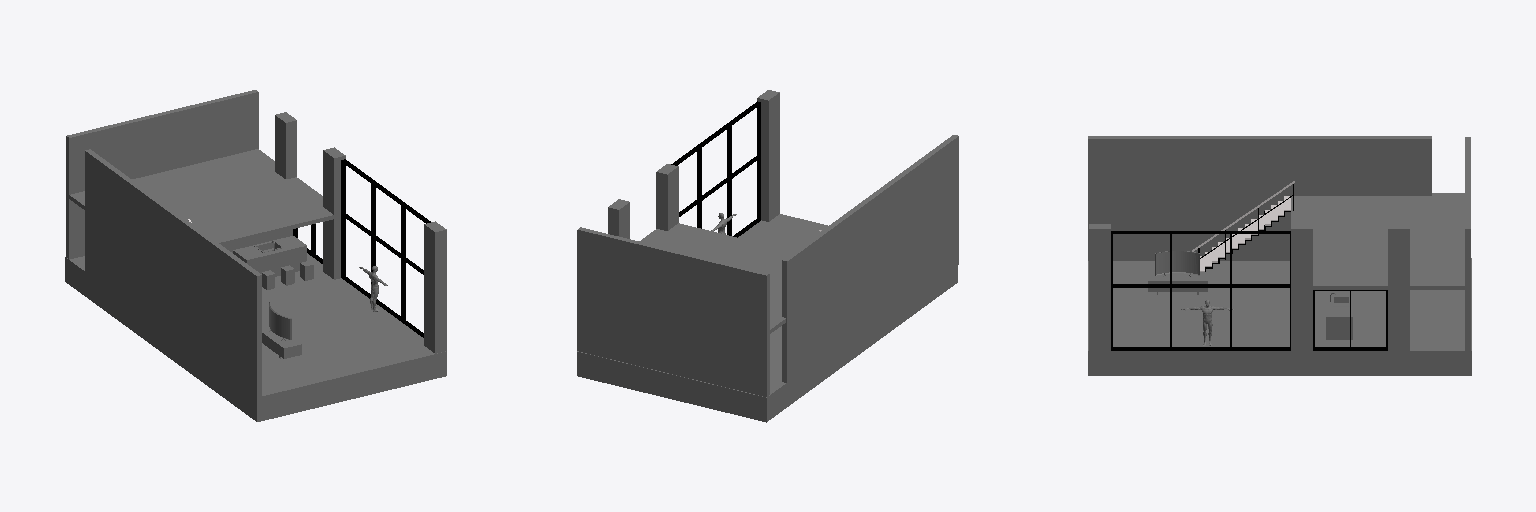
Rendered from PrimerAvance.obj.
3 views of the same model, side by side, from view 1: azimuth 30°, elevation 25°; view 2: azimuth 150°, elevation 25°; view 3: azimuth 270°, elevation 25° (orthographic).
Parts seen in each view (by area): view 1: pCube75, pCube48, pCube76, pCube49, pCube26, pCube27, pCube25, pCube19, pCube77, pCube64, pCube78; view 2: pCube76, pCube75, pCube48, pCube49, pCube26, pCube27, pCube25, pCube77; view 3: pCube75, pCube48, pCube49, pCube25, pCube26, pCube77, pCube27, pCube76, pCube19, pCube78, pCube33, pCube64.
Part boxes in pixels (x1,y1,x2,y2): pCube75: (85, 149, 261, 404); pCube48: (65, 253, 446, 421); pCube76: (66, 90, 258, 259); pCube49: (68, 149, 333, 245); pCube26: (424, 221, 446, 353); pCube27: (341, 159, 430, 337); pCube25: (323, 147, 345, 279); pCube19: (233, 236, 306, 276); pCube77: (275, 112, 296, 236); pCube64: (262, 323, 301, 358); pCube78: (269, 302, 291, 339); pCube76: (577, 227, 769, 396); pCube75: (782, 135, 958, 389); pCube48: (577, 214, 957, 422); pCube49: (639, 223, 793, 334); pCube26: (757, 90, 779, 221); pCube27: (671, 101, 760, 237); pCube25: (656, 164, 678, 230); pCube77: (608, 199, 629, 238); pCube75: (1088, 136, 1431, 260); pCube48: (1088, 258, 1471, 375); pCube49: (1291, 193, 1464, 289); pCube25: (1291, 224, 1312, 350); pCube26: (1089, 224, 1110, 350); pCube77: (1388, 224, 1409, 350); pCube27: (1111, 231, 1290, 350); pCube76: (1465, 137, 1470, 350); pCube19: (1326, 291, 1352, 339); pCube78: (1155, 251, 1199, 275); pCube33: (1313, 290, 1387, 350); pCube64: (1148, 272, 1207, 291).
Bounding box in the file's own units: 803 × 589 × 1401.